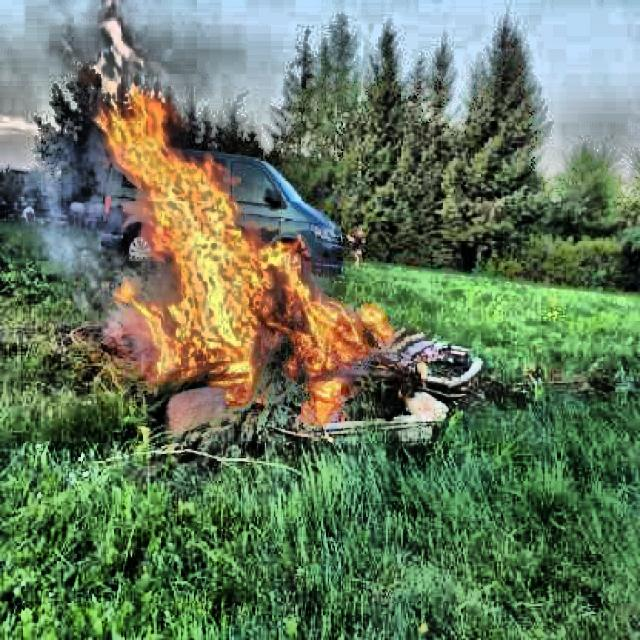Fire: (90, 89, 389, 417)
